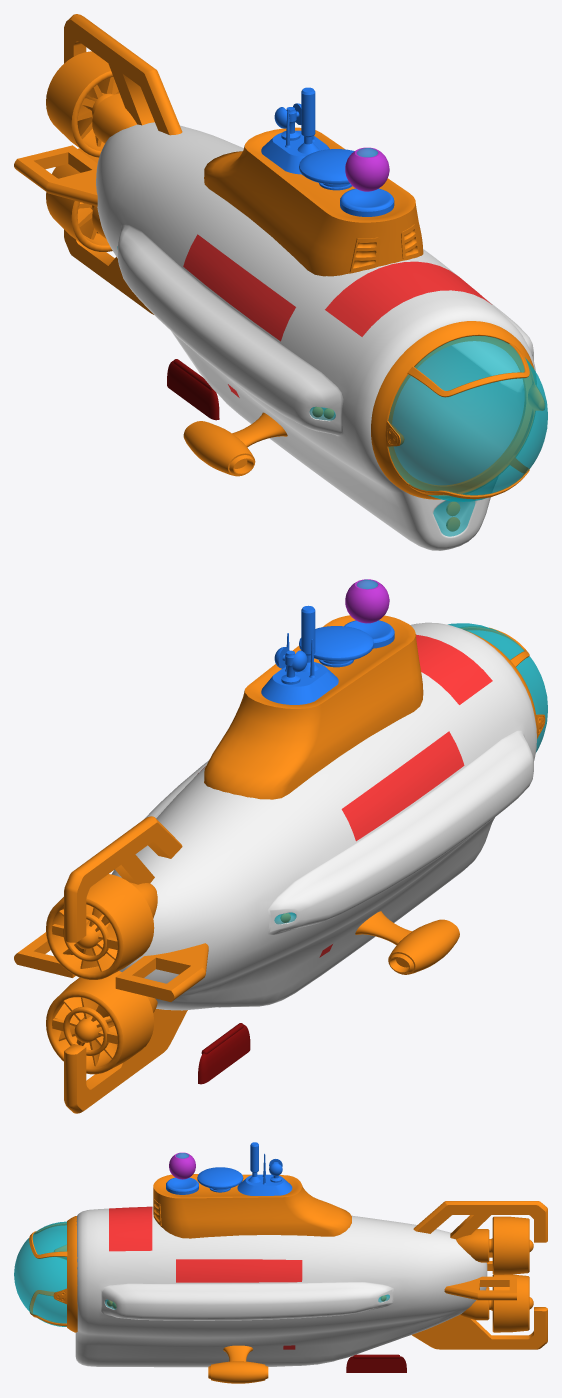
Rendered from LP_FULL.FBX.
3 views of the same model, one above another, from view 1: azimuth 30°, elevation 25°; view 2: azimuth 150°, elevation 25°; view 3: azimuth 270°, elevation 25° (orthographic). The views are drawn at different scales.
Visible parts, largest first — view 1: Body_LP, LightGlass_LP, ConningTower1_LP, BallMount_LP, Decals_LP, Shroud_LP, Fin1_LP, SideFins_LP, Thruster_LP, RadarDish_LP, Camera_LP, Motor_LP (+8 smaller); view 2: Body_LP, ConningTower1_LP, Shroud_LP, Decals_LP, Fin1_LP, SideFins_LP, Fin2_LP, Thruster_LP, LightGlass_LP, RadarDish_LP, SensorBase_LP, ShroudSupport_LP (+8 smaller); view 3: Body_LP, ConningTower1_LP, Decals_LP, LightGlass_LP, Shroud_LP, Fin2_LP, Fin1_LP, BallMount_LP, SideFins_LP, Motor_LP, Thruster_LP, DoorMain_LP (+6 smaller).
Part boxes in pixels (<box>): Body_LP: <box>96,122,535,550</box>; LightGlass_LP: <box>117,246,547,536</box>; ConningTower1_LP: <box>204,127,423,276</box>; BallMount_LP: <box>371,321,544,499</box>; Decals_LP: <box>183,234,491,397</box>; Shroud_LP: <box>46,51,113,251</box>; Fin1_LP: <box>64,14,182,135</box>; SideFins_LP: <box>14,145,97,206</box>; Thruster_LP: <box>183,421,255,476</box>; RadarDish_LP: <box>299,149,354,190</box>; Camera_LP: <box>345,147,389,191</box>; Motor_LP: <box>92,93,136,238</box>; Body_LP: <box>111,622,536,1010</box>; ConningTower1_LP: <box>204,615,423,799</box>; Shroud_LP: <box>46,874,154,1074</box>; Decals_LP: <box>198,634,492,957</box>; Fin1_LP: <box>64,816,182,942</box>; SideFins_LP: <box>14,932,208,1001</box>; Fin2_LP: <box>64,1009,187,1113</box>; Thruster_LP: <box>388,919,459,974</box>; LightGlass_LP: <box>274,623,547,924</box>; RadarDish_LP: <box>299,626,373,667</box>; SensorBase_LP: <box>261,662,338,704</box>; ShroudSupport_LP: <box>52,913,117,1055</box>; Body_LP: <box>75,1206,487,1367</box>; ConningTower1_LP: <box>153,1174,351,1238</box>; Decals_LP: <box>109,1206,302,1349</box>; LightGlass_LP: <box>14,1221,389,1326</box>; Shroud_LP: <box>492,1216,529,1332</box>; Fin2_LP: <box>412,1307,547,1349</box>; Fin1_LP: <box>413,1201,547,1242</box>; BallMount_LP: <box>29,1216,77,1332</box>; SideFins_LP: <box>444,1253,516,1300</box>; Motor_LP: <box>456,1229,489,1320</box>; Thruster_LP: <box>208,1361,268,1383</box>; DoorMain_LP: <box>346,1356,406,1372</box>.
Size of the model in its own units: 138 by 203 by 421.
